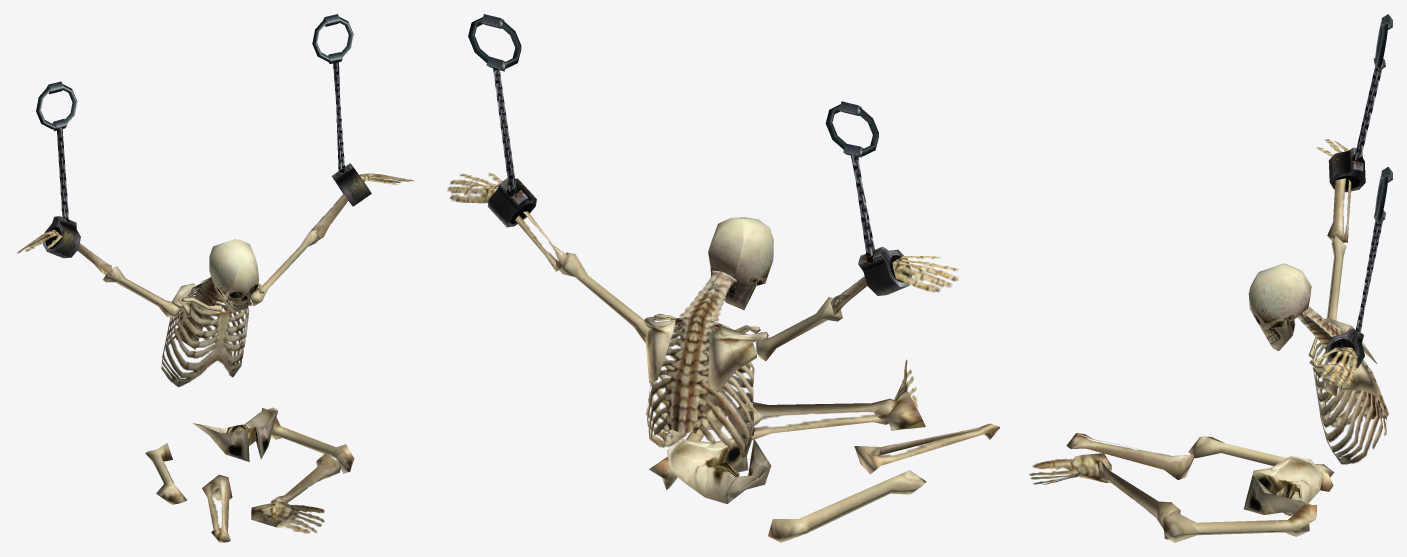
Rendered from d_sk_sit7.glb.
3 renders of one model, left to right at view 1: azimuth 30°, elevation 25°; view 2: azimuth 150°, elevation 25°; view 3: azimuth 270°, elevation 25°, orthographic. The views are drawn at different scales.
Visible parts, largest first — view 1: d_sk_sit7; view 2: d_sk_sit7; view 3: d_sk_sit7.
Part boxes in pixels (x1,y1,x2,y2): d_sk_sit7: [17, 14, 413, 542]; d_sk_sit7: [447, 14, 999, 542]; d_sk_sit7: [1029, 14, 1392, 542].
Bounding box in the file's own units: 1.51 × 1.38 × 1.06.
5 materials, 5 textured.
